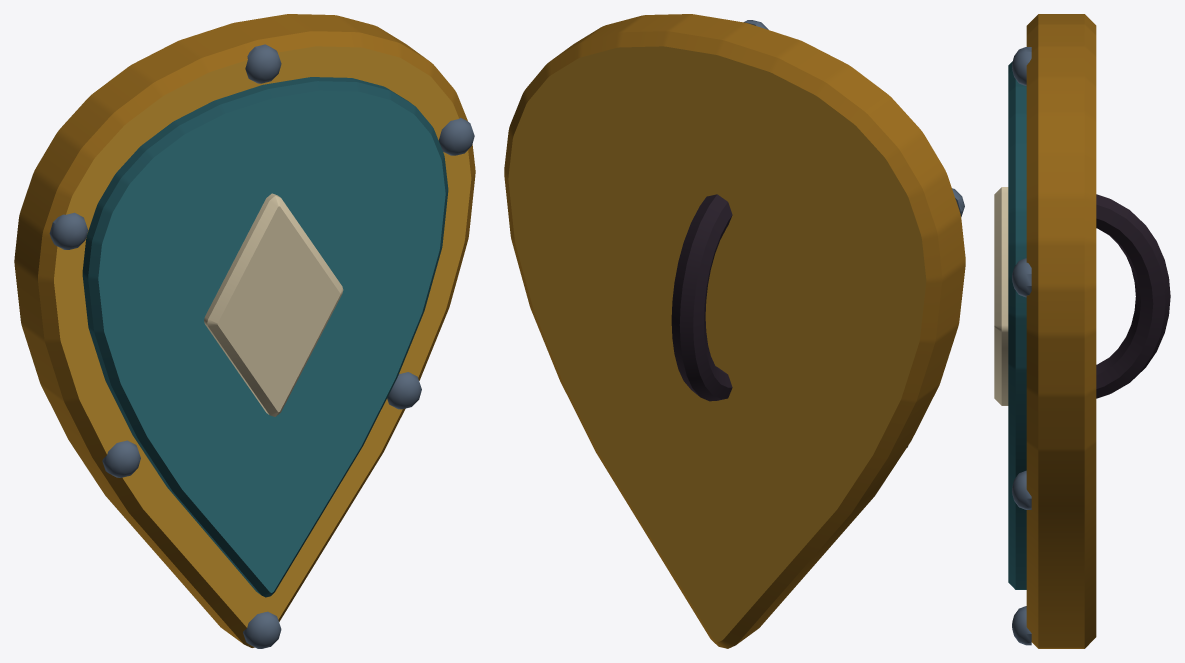
The model's file is KiteShield_13.glb.
3 renders of one model, left to right at view 1: azimuth 30°, elevation 25°; view 2: azimuth 150°, elevation 25°; view 3: azimuth 270°, elevation 25°, orthographic.
Visible parts, largest first — view 1: KiteShield_13; view 2: KiteShield_13; view 3: KiteShield_13.
Part boxes in pixels (x1,y1,x2,y2): KiteShield_13: (14, 14, 475, 648); KiteShield_13: (504, 14, 965, 648); KiteShield_13: (994, 14, 1170, 648).
Size of the model in its own units: 2.15 by 2.85 by 0.76.
